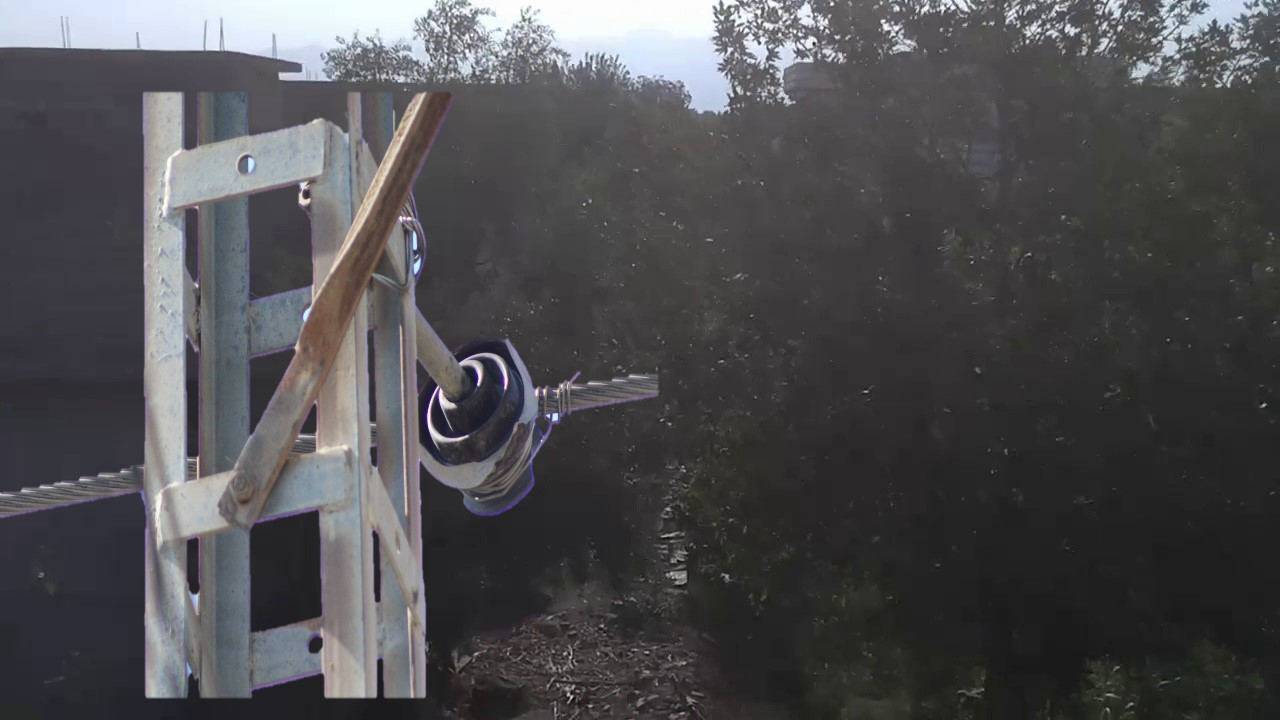defect_pin: (415, 335, 556, 526)
